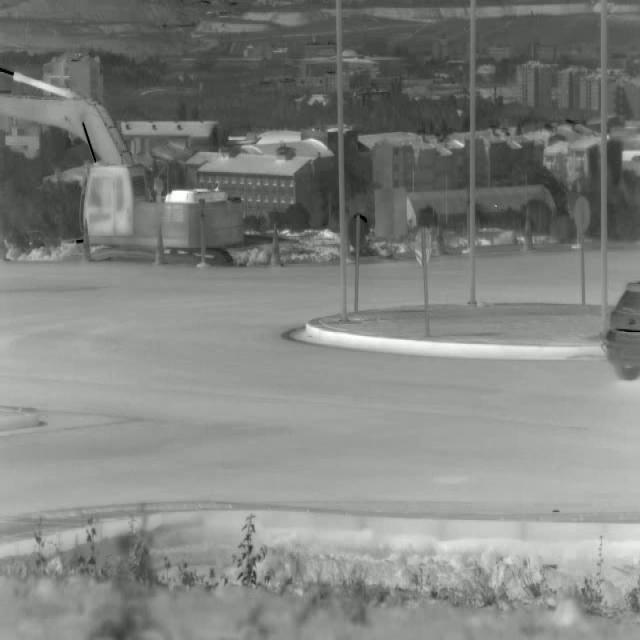Car: (607, 279, 640, 380)
